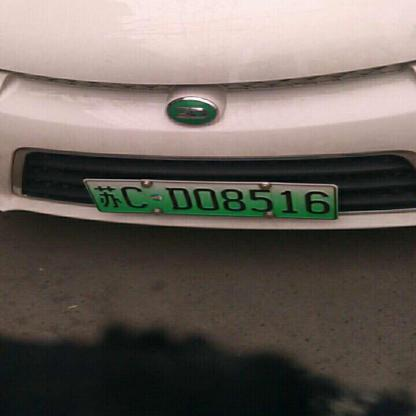lp: (86, 180, 336, 217)
